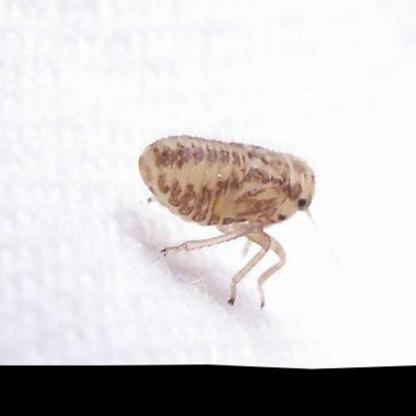brown-planthopper: (137, 131, 315, 254)
